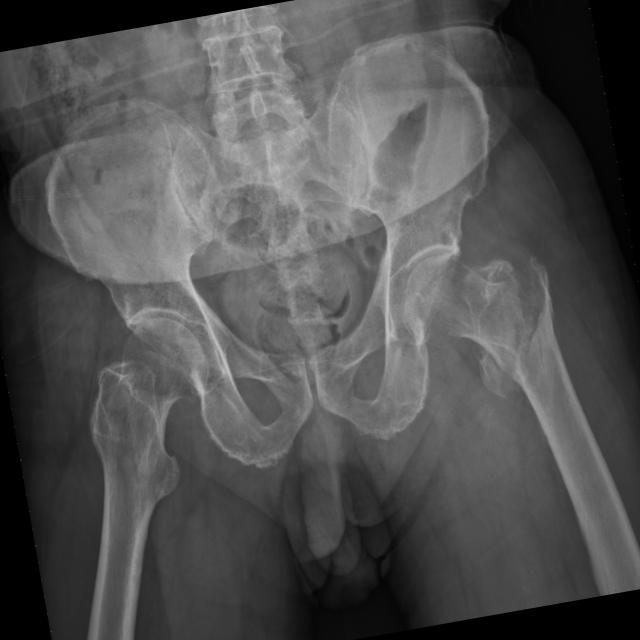left-intertrochanteric: (404, 255, 535, 383), (521, 250, 583, 432)
left-lesser-trochanter: (479, 352, 520, 402)
normal-right: (88, 317, 207, 589)
